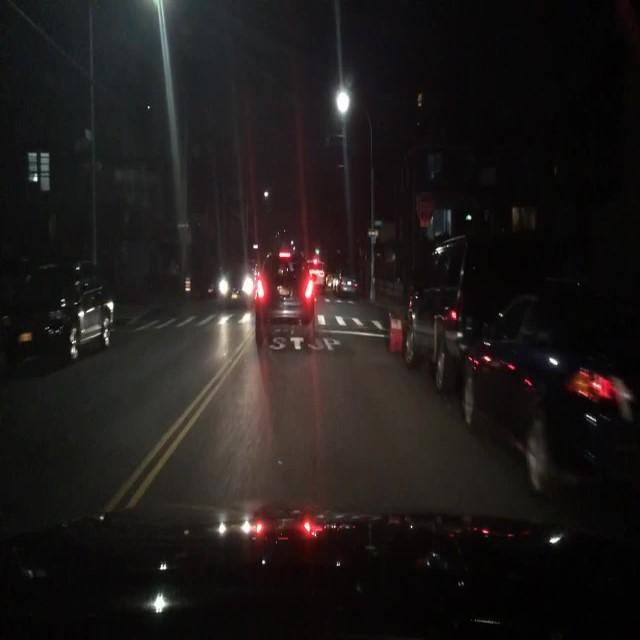normal: (236, 235, 352, 362), (5, 258, 118, 366), (403, 232, 468, 371)
